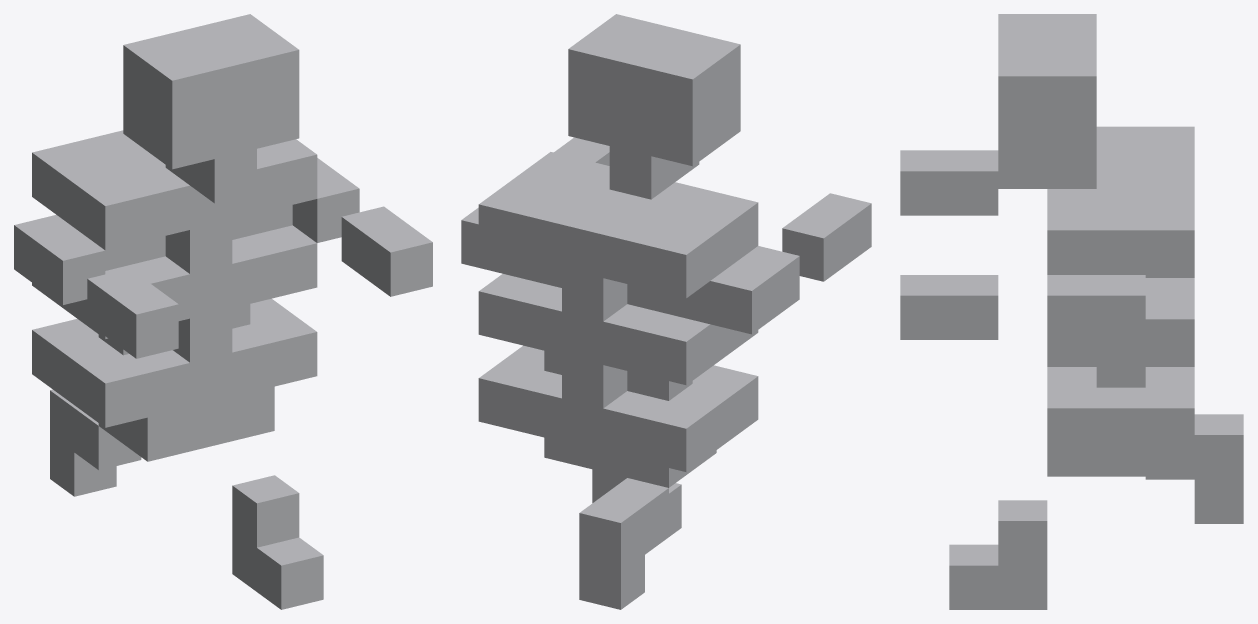
Rendered from skeleton_walk_2.obj.
The picture shows the model from 3 angles, left to right: view 1: azimuth 30°, elevation 25°; view 2: azimuth 150°, elevation 25°; view 3: azimuth 270°, elevation 25°; orthographic projection. The views are drawn at different scales.
Size of the model in its own units: 0.7 by 1.2 by 0.7.
1 material, 1 textured.
